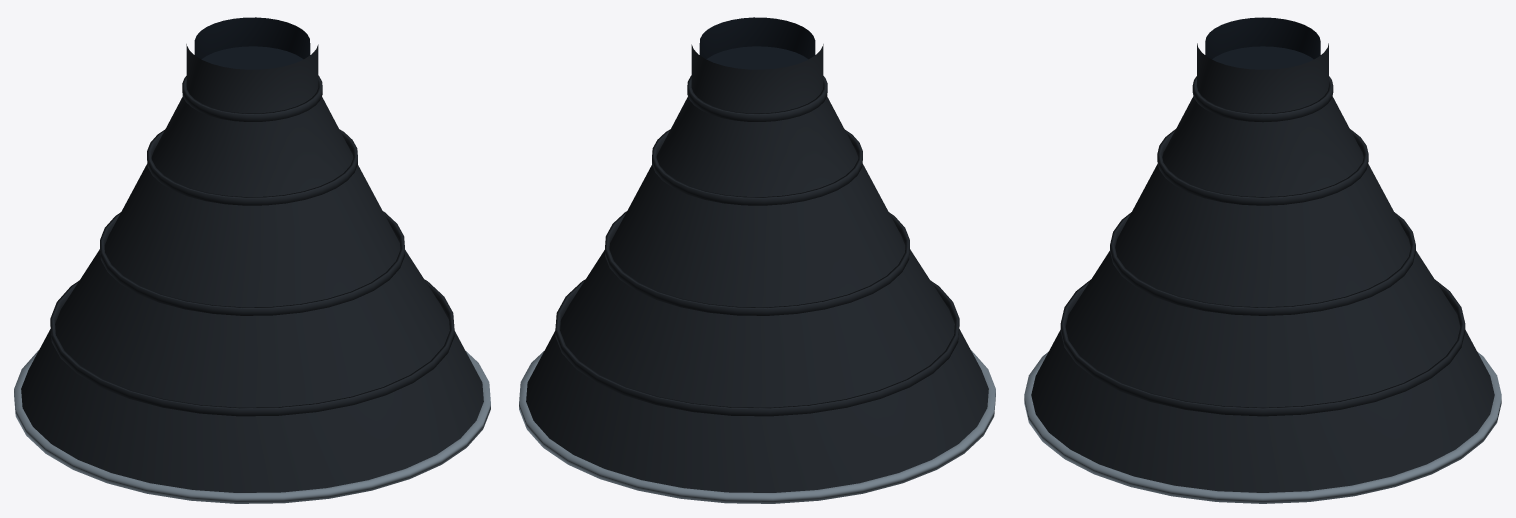
File: dragon_draco.cluster_03.nozzle_02.glb
The picture shows the model from 3 angles, left to right: view 1: azimuth 30°, elevation 25°; view 2: azimuth 150°, elevation 25°; view 3: azimuth 270°, elevation 25°; orthographic projection.
Parts seen in each view (by area): view 1: dragon_draco.cluster_03.nozzle_02.bell.mesh_Carbon_composite, dragon_draco.cluster_03.nozzle_02.bell.mesh_Machined_steel, dragon_draco.cluster_03.nozzle_02.bell.mesh_Shadowed_interio; view 2: dragon_draco.cluster_03.nozzle_02.bell.mesh_Carbon_composite, dragon_draco.cluster_03.nozzle_02.bell.mesh_Machined_steel, dragon_draco.cluster_03.nozzle_02.bell.mesh_Shadowed_interio; view 3: dragon_draco.cluster_03.nozzle_02.bell.mesh_Carbon_composite, dragon_draco.cluster_03.nozzle_02.bell.mesh_Machined_steel, dragon_draco.cluster_03.nozzle_02.bell.mesh_Shadowed_interio.
Part boxes in pixels (<box>): dragon_draco.cluster_03.nozzle_02.bell.mesh_Carbon_composite: <box>21,44,483,492</box>; dragon_draco.cluster_03.nozzle_02.bell.mesh_Machined_steel: <box>14,350,490,503</box>; dragon_draco.cluster_03.nozzle_02.bell.mesh_Shadowed_interio: <box>194,17,310,69</box>; dragon_draco.cluster_03.nozzle_02.bell.mesh_Carbon_composite: <box>526,44,988,492</box>; dragon_draco.cluster_03.nozzle_02.bell.mesh_Machined_steel: <box>519,350,995,503</box>; dragon_draco.cluster_03.nozzle_02.bell.mesh_Shadowed_interio: <box>699,17,815,69</box>; dragon_draco.cluster_03.nozzle_02.bell.mesh_Carbon_composite: <box>1031,43,1494,492</box>; dragon_draco.cluster_03.nozzle_02.bell.mesh_Machined_steel: <box>1024,352,1501,503</box>; dragon_draco.cluster_03.nozzle_02.bell.mesh_Shadowed_interio: <box>1205,17,1320,69</box>.
Size of the model in its own units: 0.1498 by 0.125 by 0.1498.
